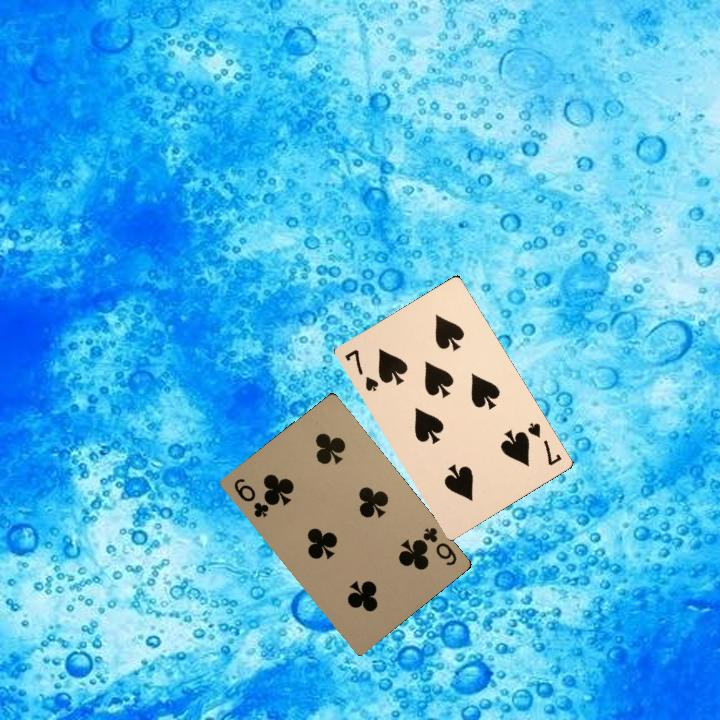6c: (415, 523, 459, 568), (230, 473, 272, 520)
7s: (523, 419, 564, 468), (341, 345, 381, 394)
